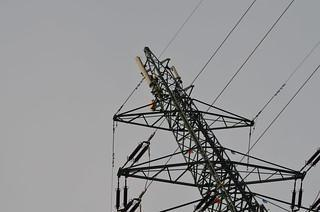power_tower: (113, 44, 320, 212)
